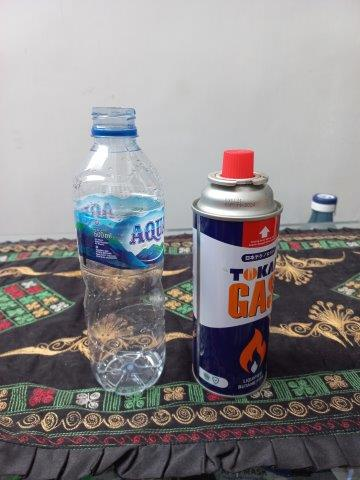botolplastik: (72, 105, 166, 397)
kaleng: (191, 149, 282, 398)
